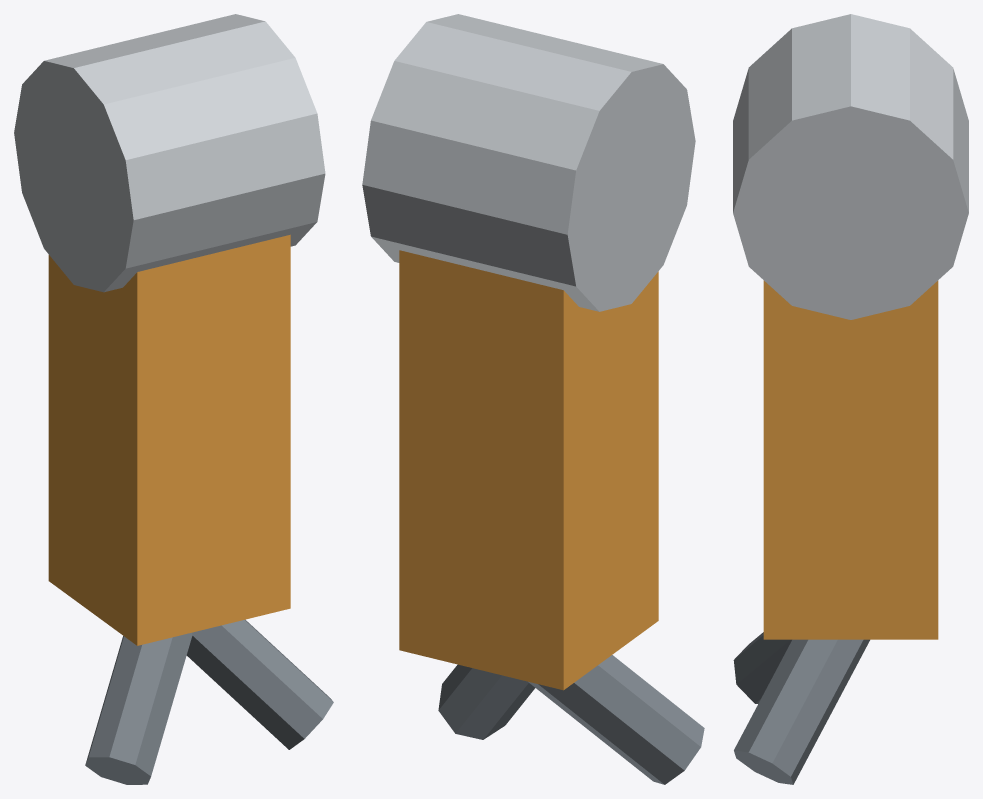
Rendered from mech-hangar-and-battle-frames-rescue-cutter-arm-098331a3__26914.glb.
3 views of the same model, side by side, from view 1: azimuth 30°, elevation 25°; view 2: azimuth 150°, elevation 25°; view 3: azimuth 270°, elevation 25° (orthographic). The views are drawn at different scales.
Parts seen in each view (by area): view 1: rescue-cutter-arm; view 2: rescue-cutter-arm; view 3: rescue-cutter-arm.
Boxes of the visible parts, bbox=[...] form: rescue-cutter-arm: bbox=[14, 14, 333, 784]; rescue-cutter-arm: bbox=[362, 14, 704, 784]; rescue-cutter-arm: bbox=[733, 14, 968, 784].
Bounding box in the file's own units: 0.6311 × 1.73 × 0.54.
